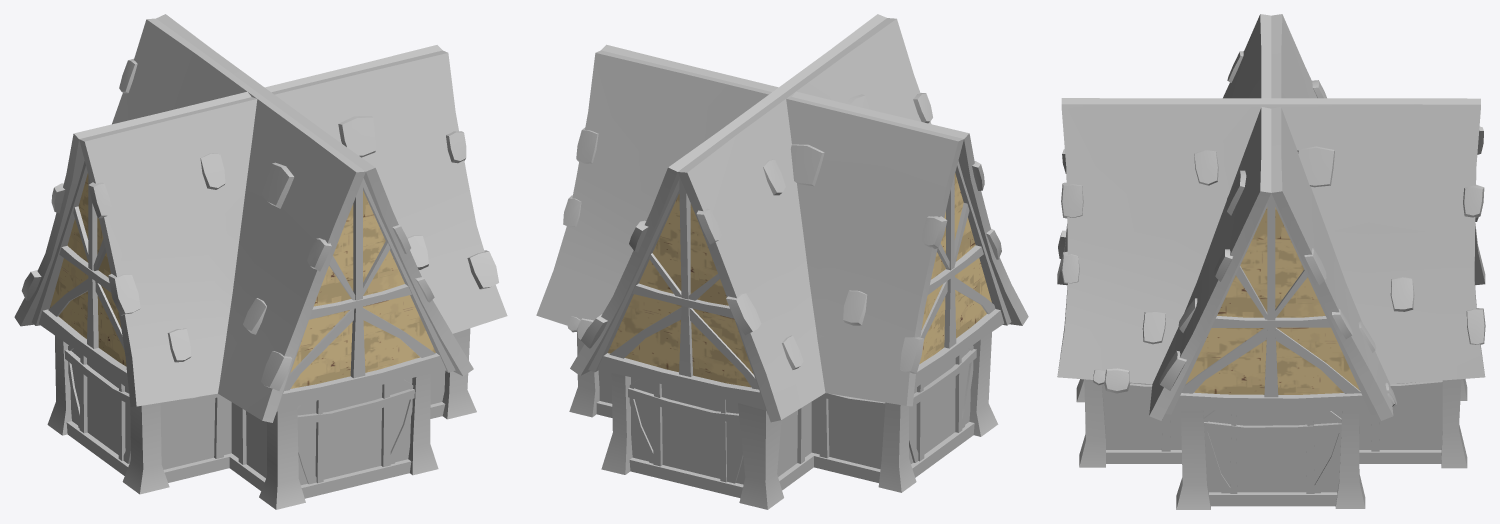
File: SM_BLD_body_v07_01.fbx
The picture shows the model from 3 angles, left to right: view 1: azimuth 30°, elevation 25°; view 2: azimuth 150°, elevation 25°; view 3: azimuth 270°, elevation 25°; orthographic projection.
Parts seen in each view (by area): view 1: SM_BLD_body_v07_01; view 2: SM_BLD_body_v07_01; view 3: SM_BLD_body_v07_01.
Part boxes in pixels (bbox=[...]): SM_BLD_body_v07_01: bbox=[14, 14, 507, 509]; SM_BLD_body_v07_01: bbox=[536, 14, 1028, 509]; SM_BLD_body_v07_01: bbox=[1057, 14, 1485, 509].
Bounding box in the file's own units: 1288 × 1078 × 1288.
